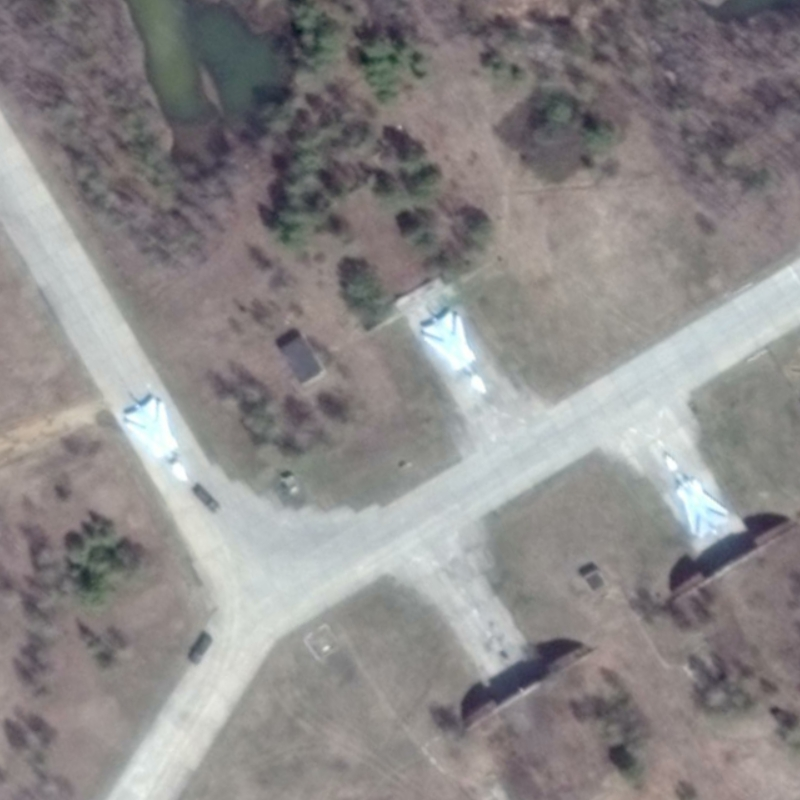A20: (123, 396, 192, 485), (420, 310, 490, 397), (663, 452, 730, 539)
